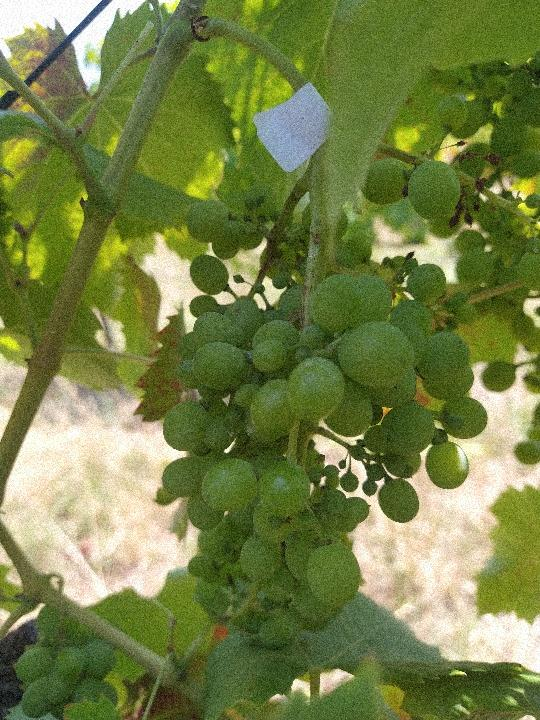grape: (159, 94, 493, 655)
